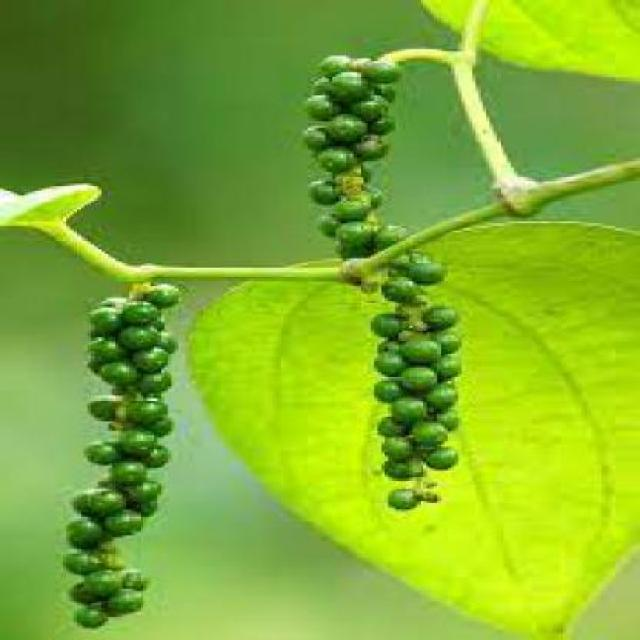UNRIPE: (302, 51, 456, 508), (63, 282, 175, 626)
